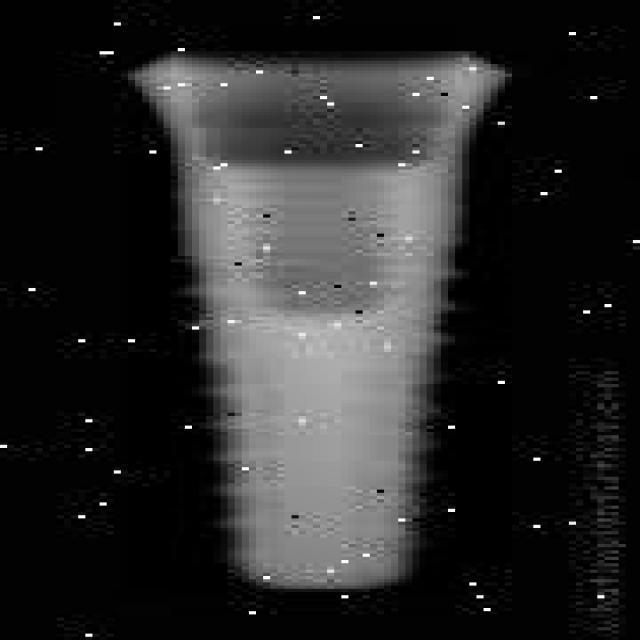Nobel Biocare Implant: (128, 54, 512, 595)
